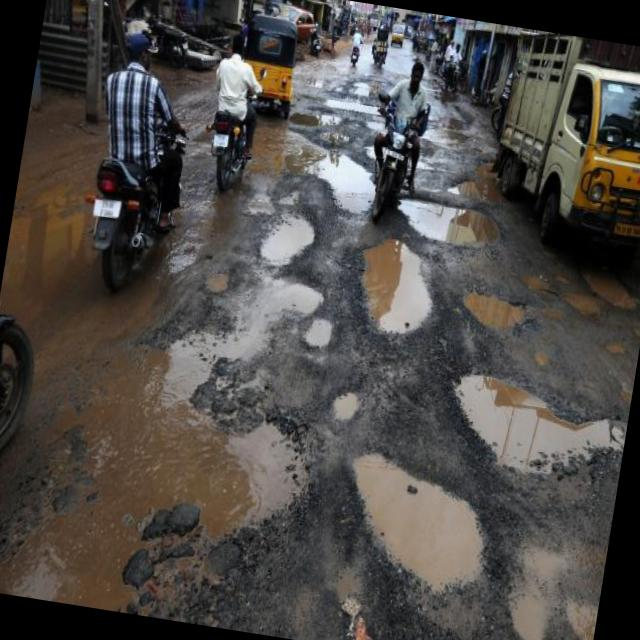Potholes: (0, 113, 331, 633), (325, 426, 511, 614), (428, 360, 632, 490), (477, 513, 610, 640), (387, 172, 512, 268), (288, 130, 400, 236), (353, 218, 444, 348), (452, 266, 538, 346), (442, 140, 522, 213), (256, 206, 334, 277), (570, 267, 640, 337), (308, 79, 401, 131)
